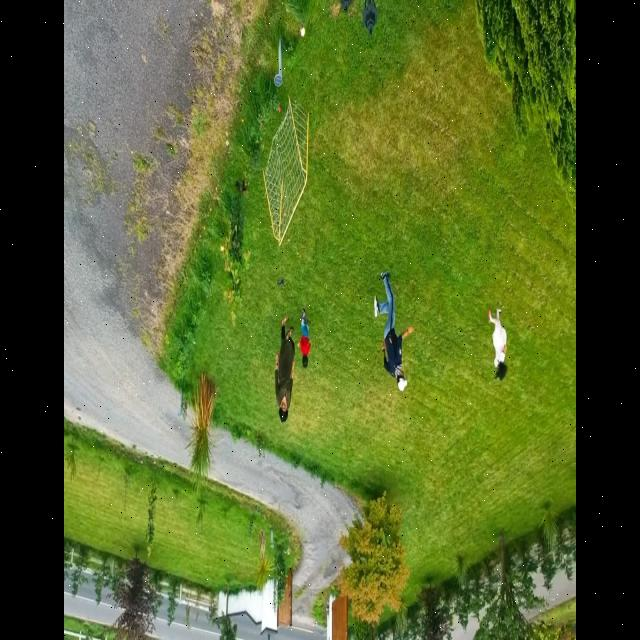humans: (373, 269, 417, 401), (273, 310, 297, 434), (485, 300, 512, 392), (298, 298, 315, 374)
